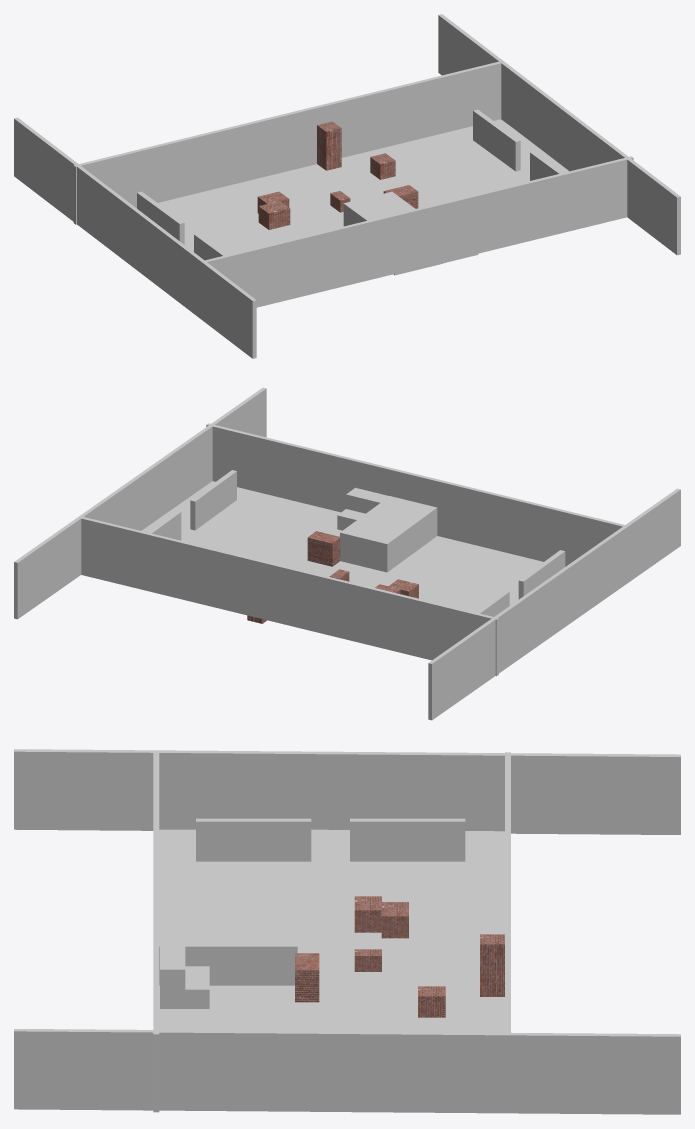
File: texturedmap.glb
3 views of the same model, one above another, from view 1: azimuth 30°, elevation 25°; view 2: azimuth 150°, elevation 25°; view 3: azimuth 270°, elevation 25° (orthographic). The views are drawn at different scales.
Visible parts, largest first — view 1: Cube.001, Cube.002, Plane, Cube.003, Cube.004, Cube.005, Cube.012, Cube.015, Cube.008, Cube.016, Cube.006, Cube.014 (+1 smaller); view 2: Cube.002, Cube.001, Plane, Cube.003, Cube.004, Cube.012, Cube.006, Cube, Cube.007, Cube.013, Cube.005; view 3: Cube.004, Cube.003, Plane, Cube.012, Cube.007, Cube.008, Cube.001, Cube.002, Cube.013, Cube.015, Cube, Cube.011 (+4 smaller).
Part boxes in pixels (x1,y1,x2,y2): Cube.001: (204, 156, 633, 307); Cube.002: (73, 61, 502, 224); Plane: (136, 119, 569, 254); Cube.003: (14, 117, 256, 358); Cube.004: (438, 14, 680, 255); Cube.005: (473, 109, 520, 171); Cube.012: (343, 191, 443, 275); Cube.015: (317, 121, 341, 170); Cube.008: (137, 191, 184, 244); Cube.016: (258, 201, 290, 229); Cube.006: (530, 151, 563, 180); Cube.014: (370, 153, 395, 179); Cube.002: (81, 517, 498, 676); Cube.001: (206, 423, 624, 566); Plane: (142, 481, 543, 612); Cube.003: (428, 488, 680, 720); Cube.004: (14, 387, 266, 619); Cube.012: (340, 496, 437, 572); Cube.006: (190, 470, 236, 530); Cube: (307, 531, 340, 566); Cube.007: (518, 550, 565, 599); Cube.013: (346, 487, 389, 513); Cube.005: (147, 510, 181, 540); Cube.004: (14, 1029, 680, 1114); Cube.003: (14, 749, 680, 834); Plane: (159, 829, 504, 1032); Cube.012: (159, 914, 297, 985); Cube.007: (196, 818, 311, 861); Cube.008: (350, 818, 465, 861); Cube.001: (153, 752, 159, 1112); Cube.002: (505, 752, 510, 1034); Cube.013: (160, 946, 185, 1008); Cube.015: (480, 934, 504, 996); Cube: (295, 953, 319, 1002); Cube.011: (185, 966, 209, 1008).
Bounding box in the file's own units: 226 × 31.68 × 221.
Materials: 6 (6 with a texture image).
